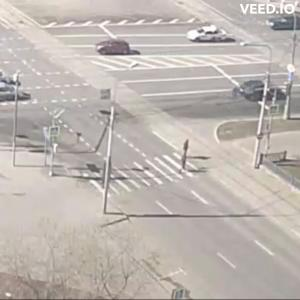car: (236, 80, 293, 106), (94, 38, 138, 59), (189, 26, 235, 44), (1, 83, 30, 103), (268, 17, 300, 33)
